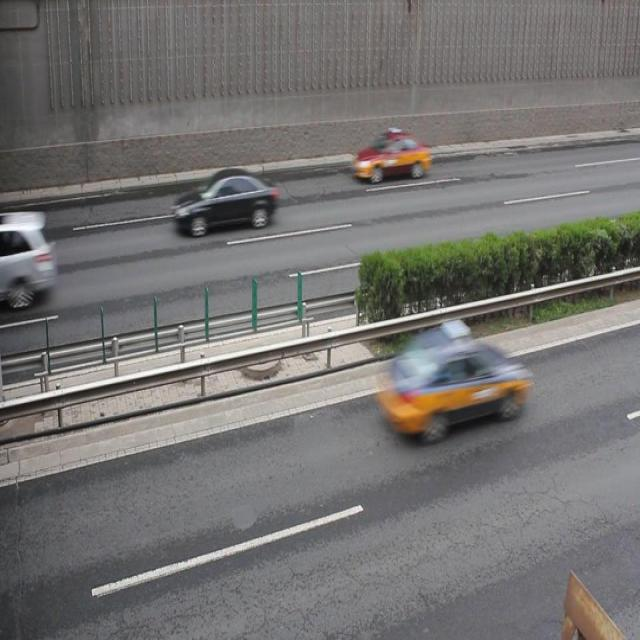car: (375, 326, 528, 437), (172, 168, 279, 236), (350, 131, 430, 182)
truck: (1, 211, 57, 300)
